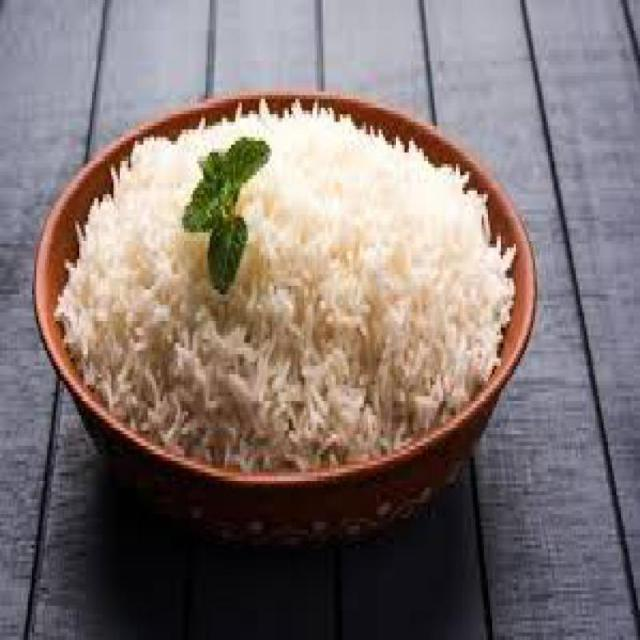nasi_putih: (59, 108, 515, 474)
